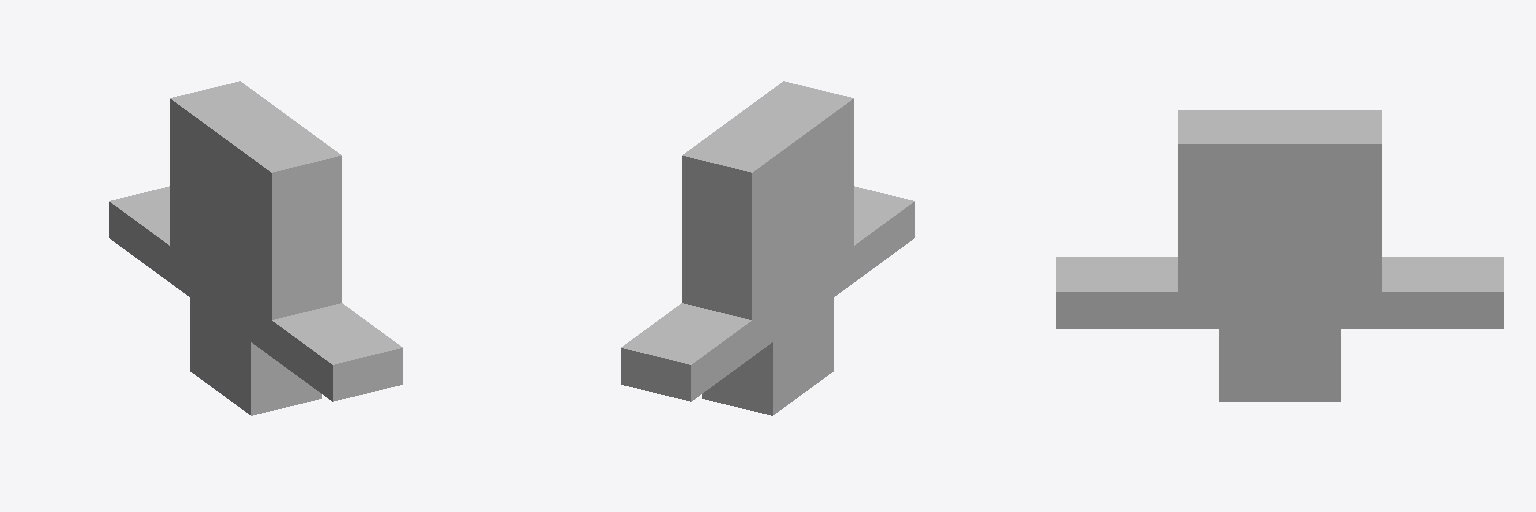
Rendered from player_torso_s-01.obj.
3 renders of one model, left to right at view 1: azimuth 30°, elevation 25°; view 2: azimuth 150°, elevation 25°; view 3: azimuth 270°, elevation 25°, orthographic.
Bounding box in the file's own units: 2 × 7 × 11.